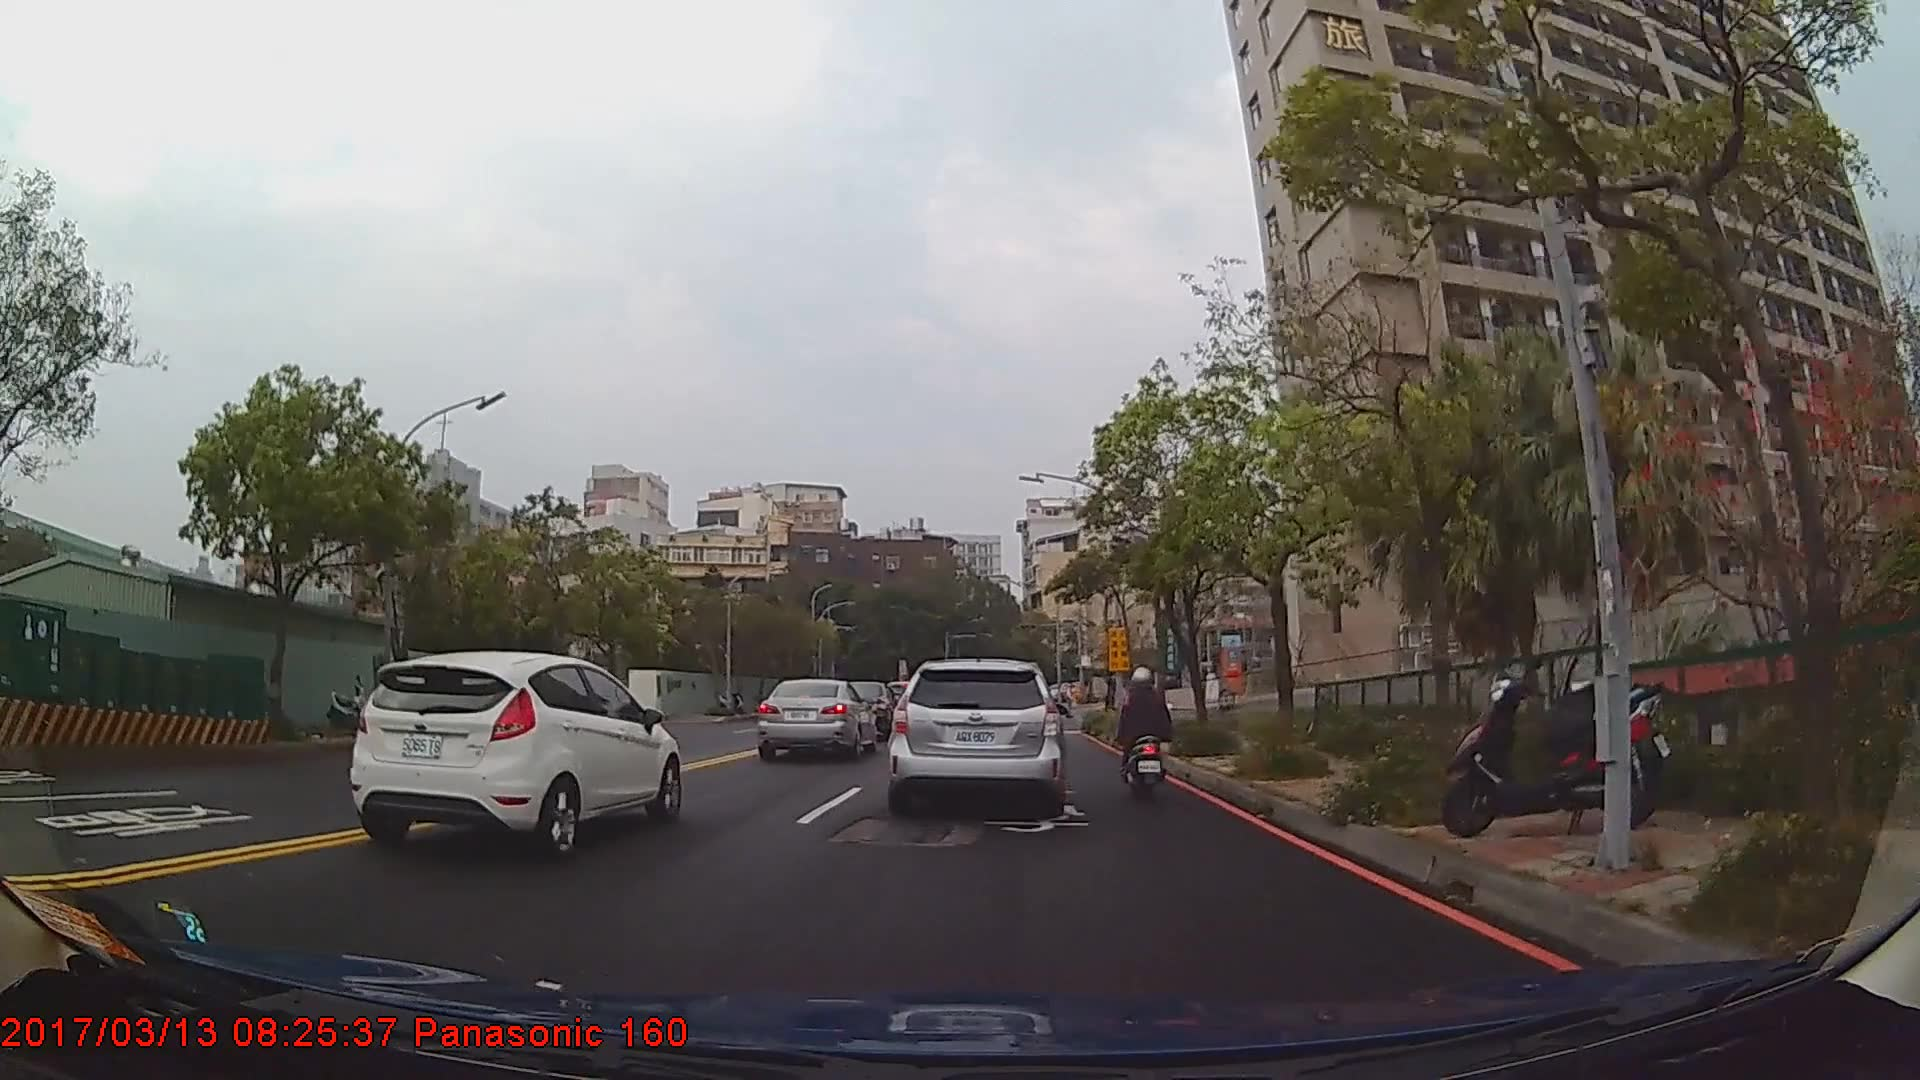rider: (1117, 668, 1172, 804)
vehicle: (348, 650, 680, 858), (888, 659, 1060, 816), (753, 677, 876, 761)
